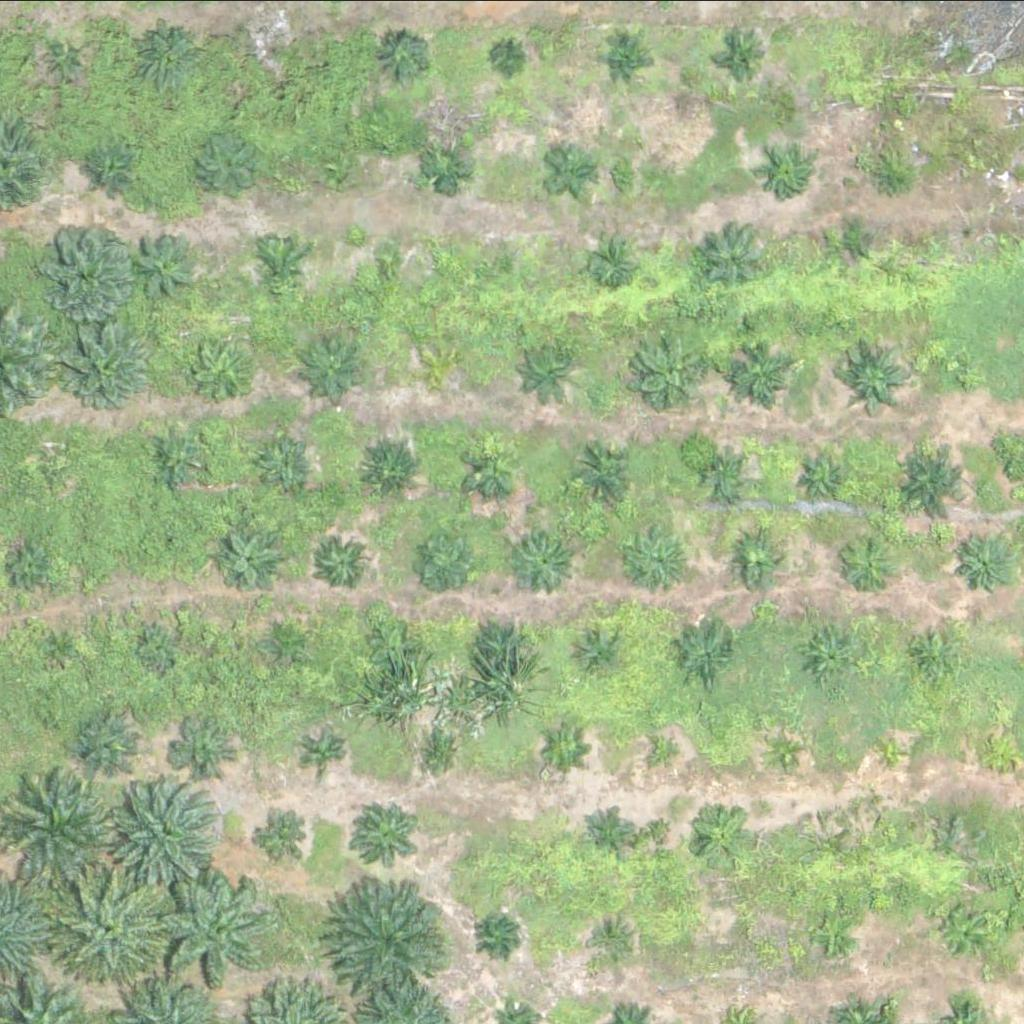Kelapa_Sawit: (9, 759, 135, 884), (329, 869, 454, 994), (156, 869, 269, 982), (116, 773, 229, 885), (51, 869, 164, 981), (34, 218, 135, 318), (67, 318, 155, 405), (888, 437, 976, 524), (839, 341, 915, 416), (409, 527, 485, 602), (345, 795, 420, 870), (190, 129, 265, 204), (837, 535, 900, 598), (630, 530, 693, 593), (954, 532, 1017, 595), (703, 224, 766, 287), (673, 617, 736, 680), (803, 621, 866, 684), (473, 616, 536, 679), (172, 720, 235, 783), (74, 710, 137, 773), (302, 336, 365, 399), (357, 437, 420, 500), (147, 427, 210, 490), (514, 532, 577, 594), (574, 442, 637, 504), (731, 342, 794, 404), (641, 339, 703, 402), (519, 334, 582, 396), (931, 899, 994, 961), (216, 531, 279, 593), (138, 26, 201, 88), (129, 235, 192, 297), (192, 337, 255, 399), (691, 803, 754, 865), (716, 34, 767, 84), (577, 625, 628, 675), (262, 806, 313, 856), (252, 241, 303, 291), (377, 34, 428, 84), (829, 216, 880, 266), (864, 154, 915, 204), (371, 618, 422, 668), (736, 536, 786, 586), (599, 32, 649, 82), (544, 144, 594, 194), (466, 444, 516, 494), (587, 237, 637, 287), (762, 149, 812, 199), (904, 631, 954, 681), (318, 536, 368, 586), (259, 442, 309, 492), (424, 142, 474, 192), (42, 38, 92, 88), (582, 805, 632, 855), (807, 905, 857, 955), (797, 456, 848, 505), (547, 723, 585, 761), (475, 916, 513, 954), (320, 146, 358, 184), (138, 630, 176, 668), (40, 626, 78, 664), (264, 623, 302, 661), (648, 730, 686, 768), (767, 732, 805, 770), (874, 730, 912, 768), (974, 734, 1012, 772), (96, 148, 133, 186), (34, 440, 71, 478), (706, 458, 744, 495), (14, 545, 52, 582), (599, 923, 637, 960), (728, 911, 766, 948), (309, 733, 346, 770), (419, 729, 456, 766), (253, 36, 278, 61), (496, 47, 521, 72), (489, 248, 514, 273), (373, 248, 398, 273), (427, 353, 452, 378), (954, 363, 979, 388), (164, 526, 189, 551)
